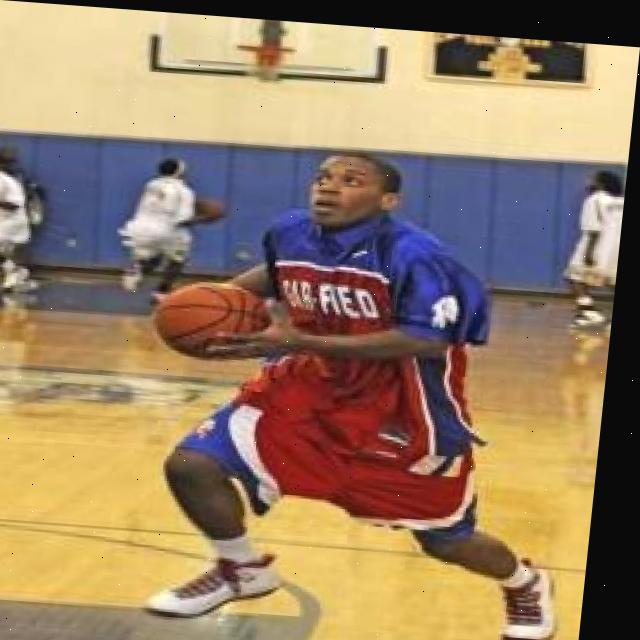basketball: (149, 275, 278, 369), (194, 194, 229, 222)
hoop: (233, 42, 300, 89)
